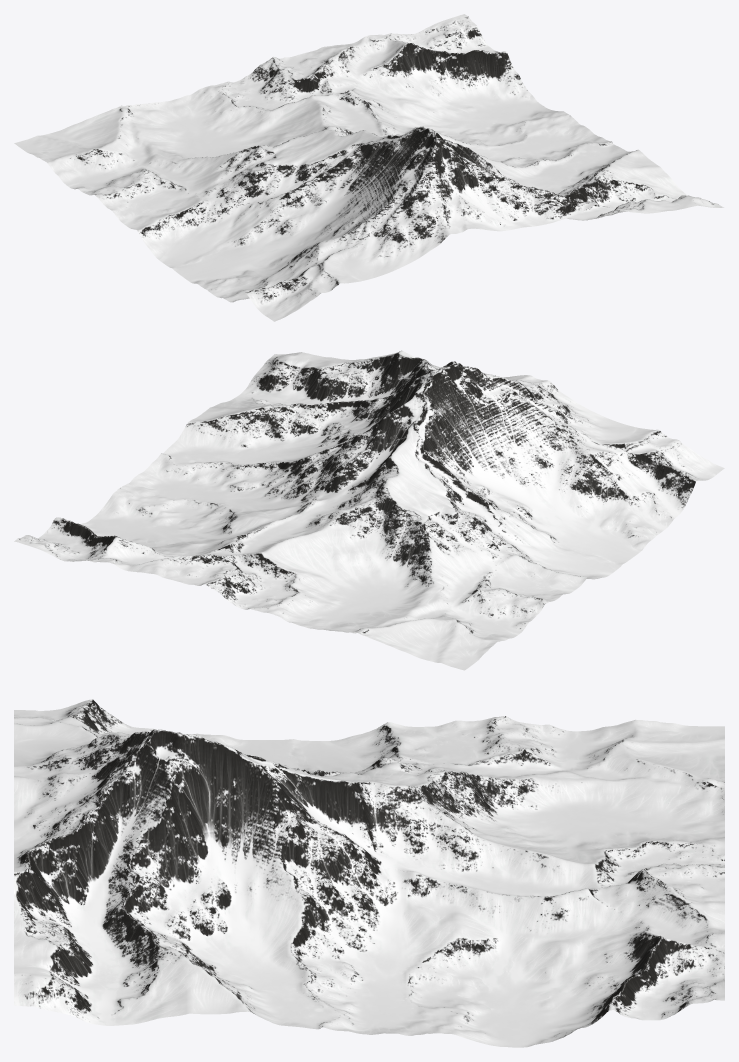
File: MountainOne.glb
The picture shows the model from 3 angles, top to bottom: view 1: azimuth 30°, elevation 25°; view 2: azimuth 150°, elevation 25°; view 3: azimuth 270°, elevation 25°; orthographic projection. The views are drawn at different scales.
Parts seen in each view (by area): view 1: Object_2; view 2: Object_2; view 3: Object_2.
Boxes of the visible parts, left/top/right/bottom form: Object_2: left=14, top=14, right=723, bottom=321; Object_2: left=14, top=350, right=724, bottom=670; Object_2: left=14, top=699, right=724, bottom=1047.
Size of the model in its own units: 4965 by 1255 by 4965.
1 material, 1 textured.
